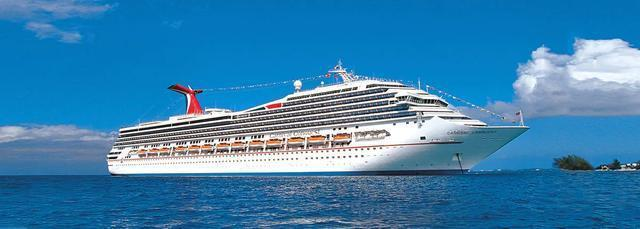Ship: (94, 73, 549, 178)
